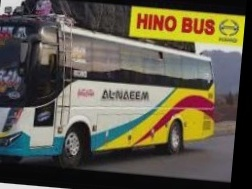bus: (0, 8, 222, 179)
